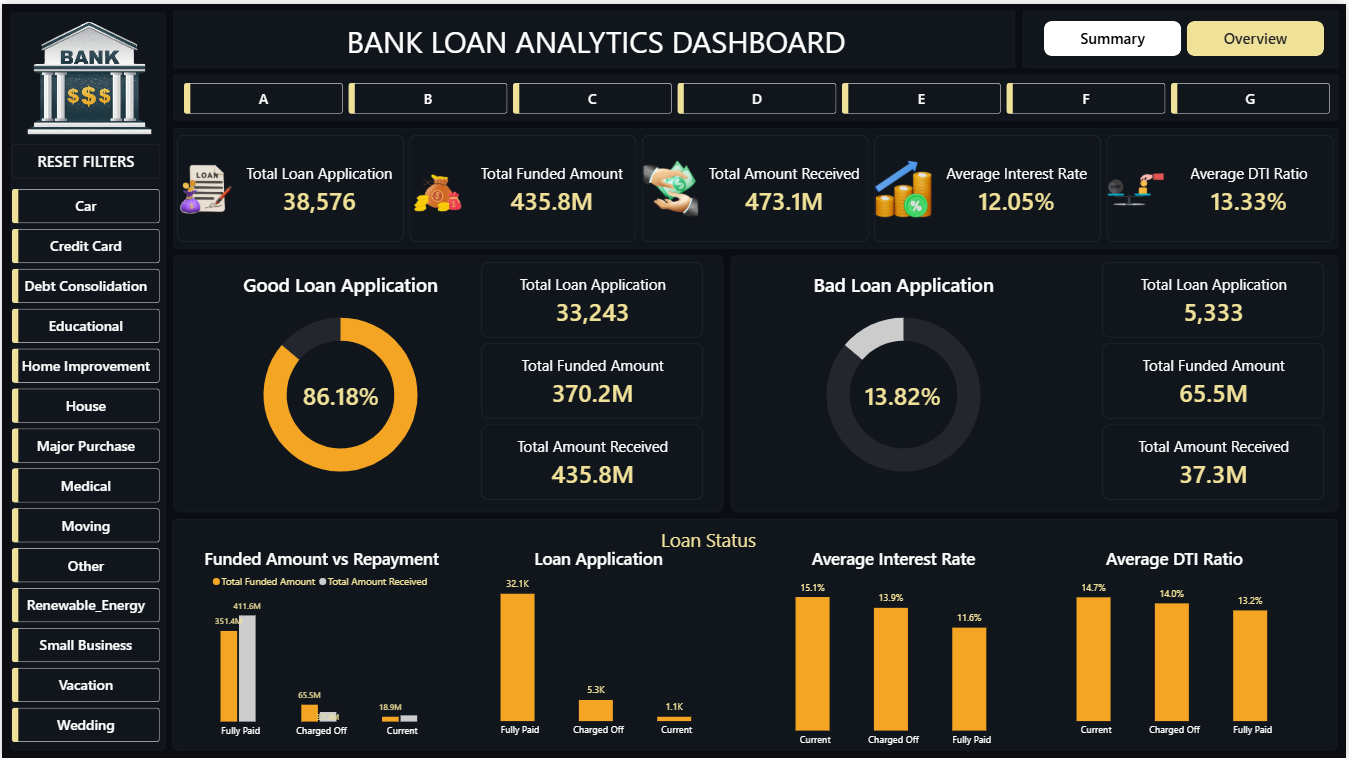

This screenshot's page, from the dashboard's own definition file:
{"tool":"powerbi","page":{"name":"Summary","canvas":[1920,1080],"ordinal":0},"visuals":[{"type":"cardVisual","fields":{"Data":["financial_loan.Total Loan Application","financial_loan.Total Funded Amount","financial_loan.Total Amount Received","financial_loan.Average Interest Rate","financial_loan.Average DTI Rate"]},"box":[250,187.8,1653.3,153.3],"z":0},{"type":"donutChart","title":"Good Loan Application","fields":{"Category":["financial_loan.Good_vs_Bad_Loan"],"Y":["financial_loan.Total Loan Application"]},"box":[272.9,368.6,421.4,342.9],"z":1000},{"type":"donutChart","title":"Bad Loan Application","fields":{"Category":["financial_loan.Good_vs_Bad_Loan"],"Y":["financial_loan.Total Loan Application"]},"box":[1077.1,368.6,421.4,342.9],"z":2000},{"type":"cardVisual","fields":{"Data":["financial_loan.Good Loan %"]},"box":[394.3,514.3,180,88.6],"z":3000},{"type":"cardVisual","fields":{"Data":["financial_loan.Bad Loan %"]},"box":[1197.1,514.3,180,88.6],"z":4000},{"type":"cardVisual","fields":{"Data":["financial_loan.Total Loan Application","financial_loan.Total Funded Amount","financial_loan.Total Amount Received"],"Rows":["financial_loan.Good_vs_Bad_Loan"]},"box":[651.4,368.6,350,342.9],"z":5000},{"type":"cardVisual","fields":{"Data":["financial_loan.Total Loan Application","financial_loan.Total Funded Amount","financial_loan.Total Amount Received"],"Rows":["financial_loan.Good_vs_Bad_Loan"]},"box":[1538.6,368.6,350,342.9],"z":6000},{"type":"clusteredColumnChart","title":"Funded Amount vs Repayment","fields":{"Category":["financial_loan.LOAN_STATUS"],"Y":["financial_loan.Total Funded Amount","financial_loan.Total Amount Received"]},"box":[250,761.4,412.9,305.7],"z":7000},{"type":"clusteredColumnChart","title":"Loan Application","fields":{"Category":["financial_loan.LOAN_STATUS"],"Y":["financial_loan.Total Loan Application"]},"box":[651.2,761.2,401.2,305],"z":8000},{"type":"textbox","box":[941.2,747.5,222.5,112.5],"z":9000},{"type":"clusteredColumnChart","title":"Average Interest Rate","fields":{"Category":["financial_loan.LOAN_STATUS"],"Y":["financial_loan.Average Interest Rate"]},"box":[1072.9,761.4,401.4,318.6],"z":10000},{"type":"clusteredColumnChart","title":"Average DTI Ratio","fields":{"Category":["financial_loan.LOAN_STATUS"],"Y":["financial_loan.Average DTI Ratio"]},"box":[1473.8,761.2,401.2,305],"z":11000},{"type":"image","box":[0,0,250,210],"z":12000},{"type":"advancedSlicerVisual","fields":{"Values":["financial_loan.PURPOSE"]},"box":[14.3,264.3,211.4,802.9],"z":13000},{"type":"advancedSlicerVisual","fields":{"Values":["financial_loan.GRADE"]},"box":[260,113,1643,44],"z":14000},{"type":"actionButton","box":[14.3,200,211.4,50],"z":15000},{"type":"textbox","box":[250,24.3,1197.1,68.6],"z":16000},{"type":"pageNavigator","box":[1488.6,24.3,400,50],"z":17000}]}

Visuals, with their boxes in screenshot pixels (x1, y1, x2, y2), scaled from the page's 1920x1080 canvas onto the 1349x760 screenshot:
cardVisual - financial_loan.Total Loan Application x financial_loan.Total Funded Amount: [176, 132, 1337, 240]
"Good Loan Application" donutChart: [192, 259, 488, 501]
"Bad Loan Application" donutChart: [757, 259, 1053, 501]
cardVisual - financial_loan.Good Loan %: [277, 362, 404, 424]
cardVisual - financial_loan.Bad Loan %: [841, 362, 968, 424]
cardVisual - financial_loan.Total Loan Application x financial_loan.Total Funded Amount: [458, 259, 704, 501]
cardVisual - financial_loan.Total Loan Application x financial_loan.Total Funded Amount: [1081, 259, 1327, 501]
"Funded Amount vs Repayment" clusteredColumnChart: [176, 536, 466, 751]
"Loan Application" clusteredColumnChart: [458, 536, 739, 750]
textbox: [661, 526, 818, 605]
"Average Interest Rate" clusteredColumnChart: [754, 536, 1036, 759]
"Average DTI Ratio" clusteredColumnChart: [1035, 536, 1317, 750]
image: [0, 0, 176, 148]
advancedSlicerVisual - financial_loan.PURPOSE: [10, 186, 159, 751]
advancedSlicerVisual - financial_loan.GRADE: [183, 80, 1337, 110]
actionButton: [10, 141, 159, 176]
textbox: [176, 17, 1017, 65]
pageNavigator: [1046, 17, 1327, 52]
